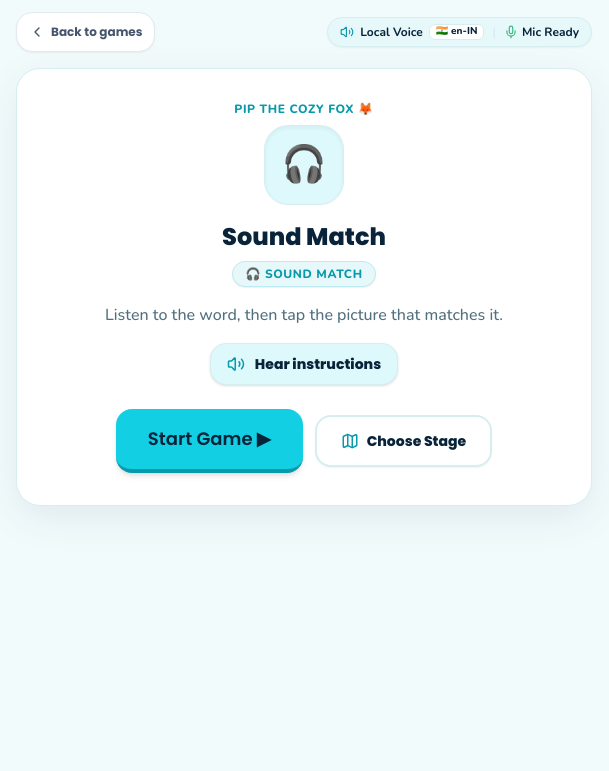
Test case: Sound Match 100-Level Phonics & Stage Progression Suite › 2. Accurate Stage Selection & Ranges › 2.2 Stage selection screen displays accurate level ranges without Levels 1-1 or duplicate Current bug
# Open Stage Selection view
Click the button with test id "choose-stage-button" at (403, 441), box [315, 415, 492, 467]
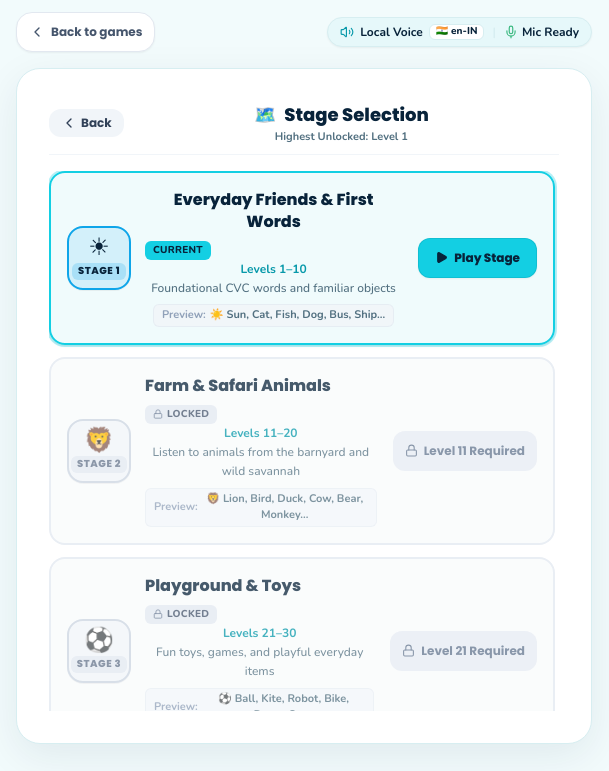
Result: the element with test id "stage-card-1" shows "Levels 1–10" at [49, 170, 555, 344]
Result: the element with test id "stage-card-2" shows "Levels 11–20" at [49, 356, 555, 544]
Result: the element with test id "stage-card-3" shows "Levels 21–30" at [49, 556, 555, 710]
